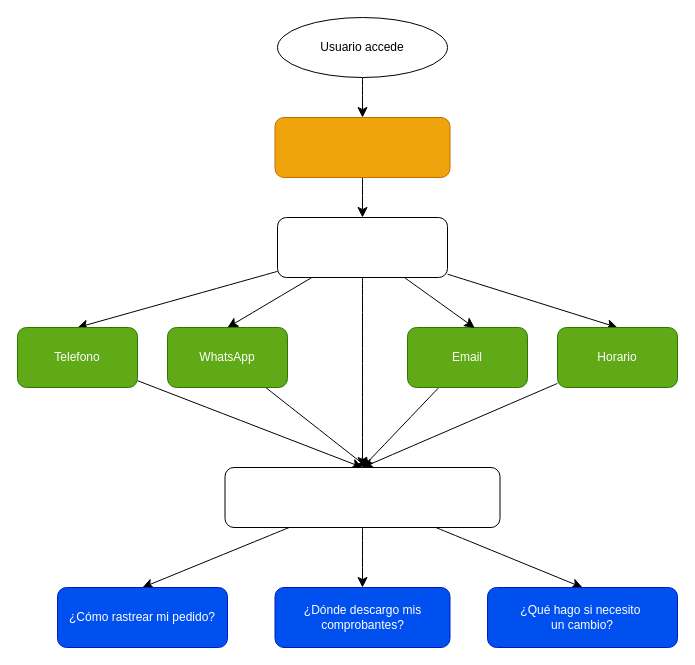
The diagram is 695 pixels wide and 665 high, and some of its shapes have lost their labels. Each missing label, with the centre of its shape:
Carga vista Centro de Soporte: the point at 362,147
Muestra canales de atención: the point at 362,247
Muestra preguntas frecuentes: the point at 362,497
